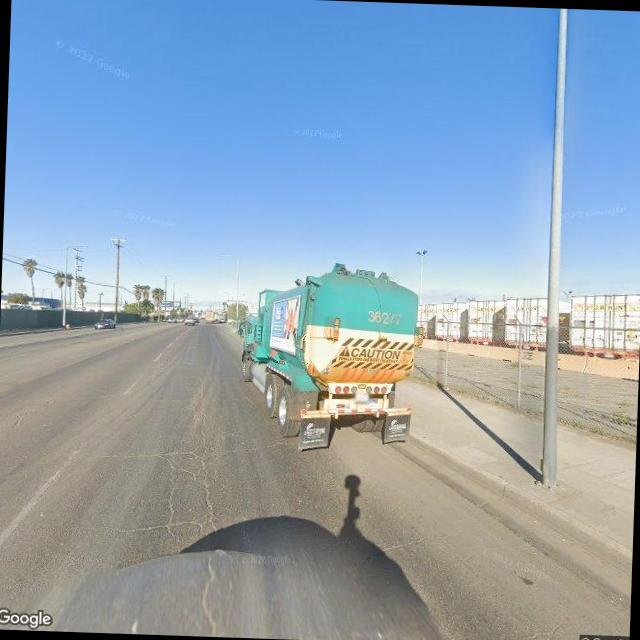crack: (128, 396, 238, 540)
